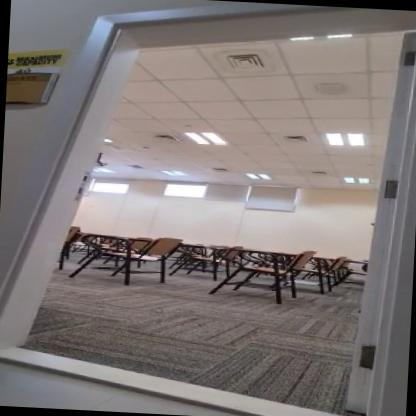open: (13, 0, 416, 403)
